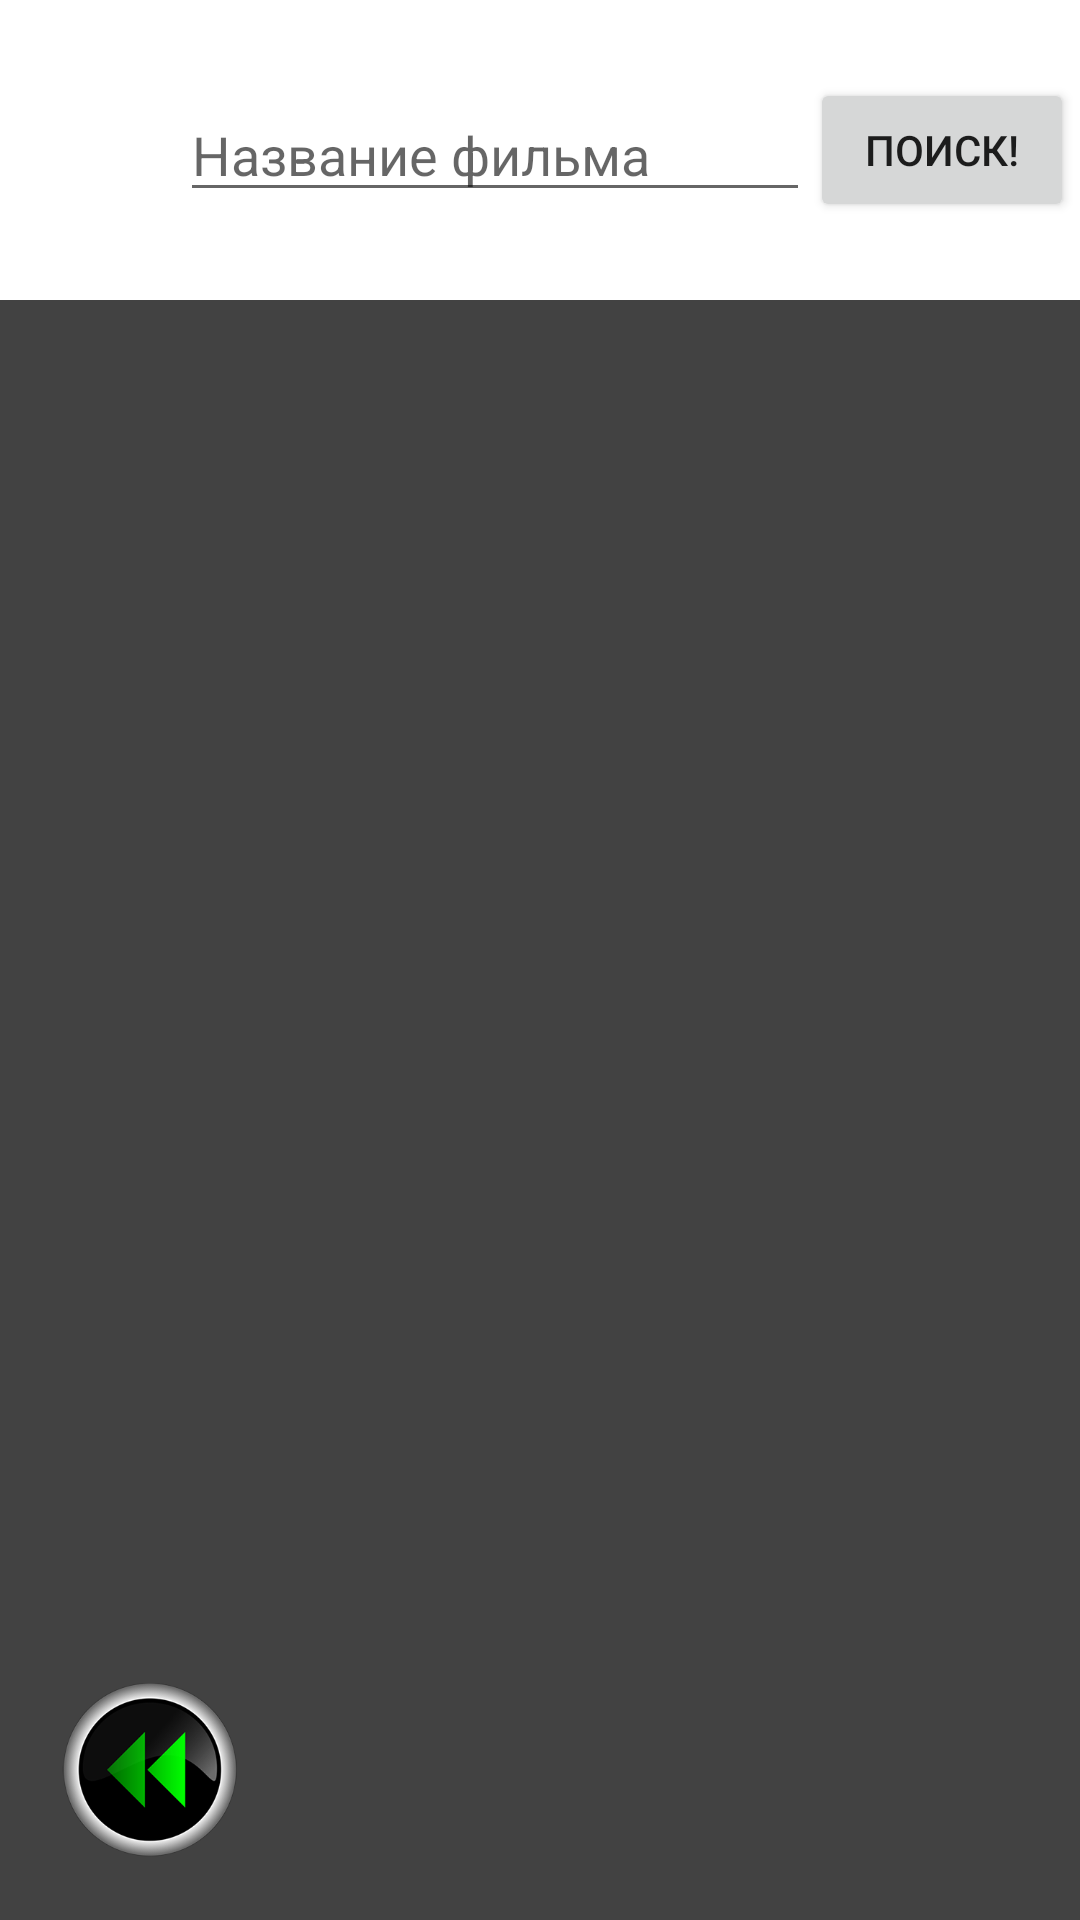

Icon bounding boxes for this 1080 × 1920 phone screenshot, format (x1, y1, x2, y2):
back: (64, 1684, 236, 1855)
